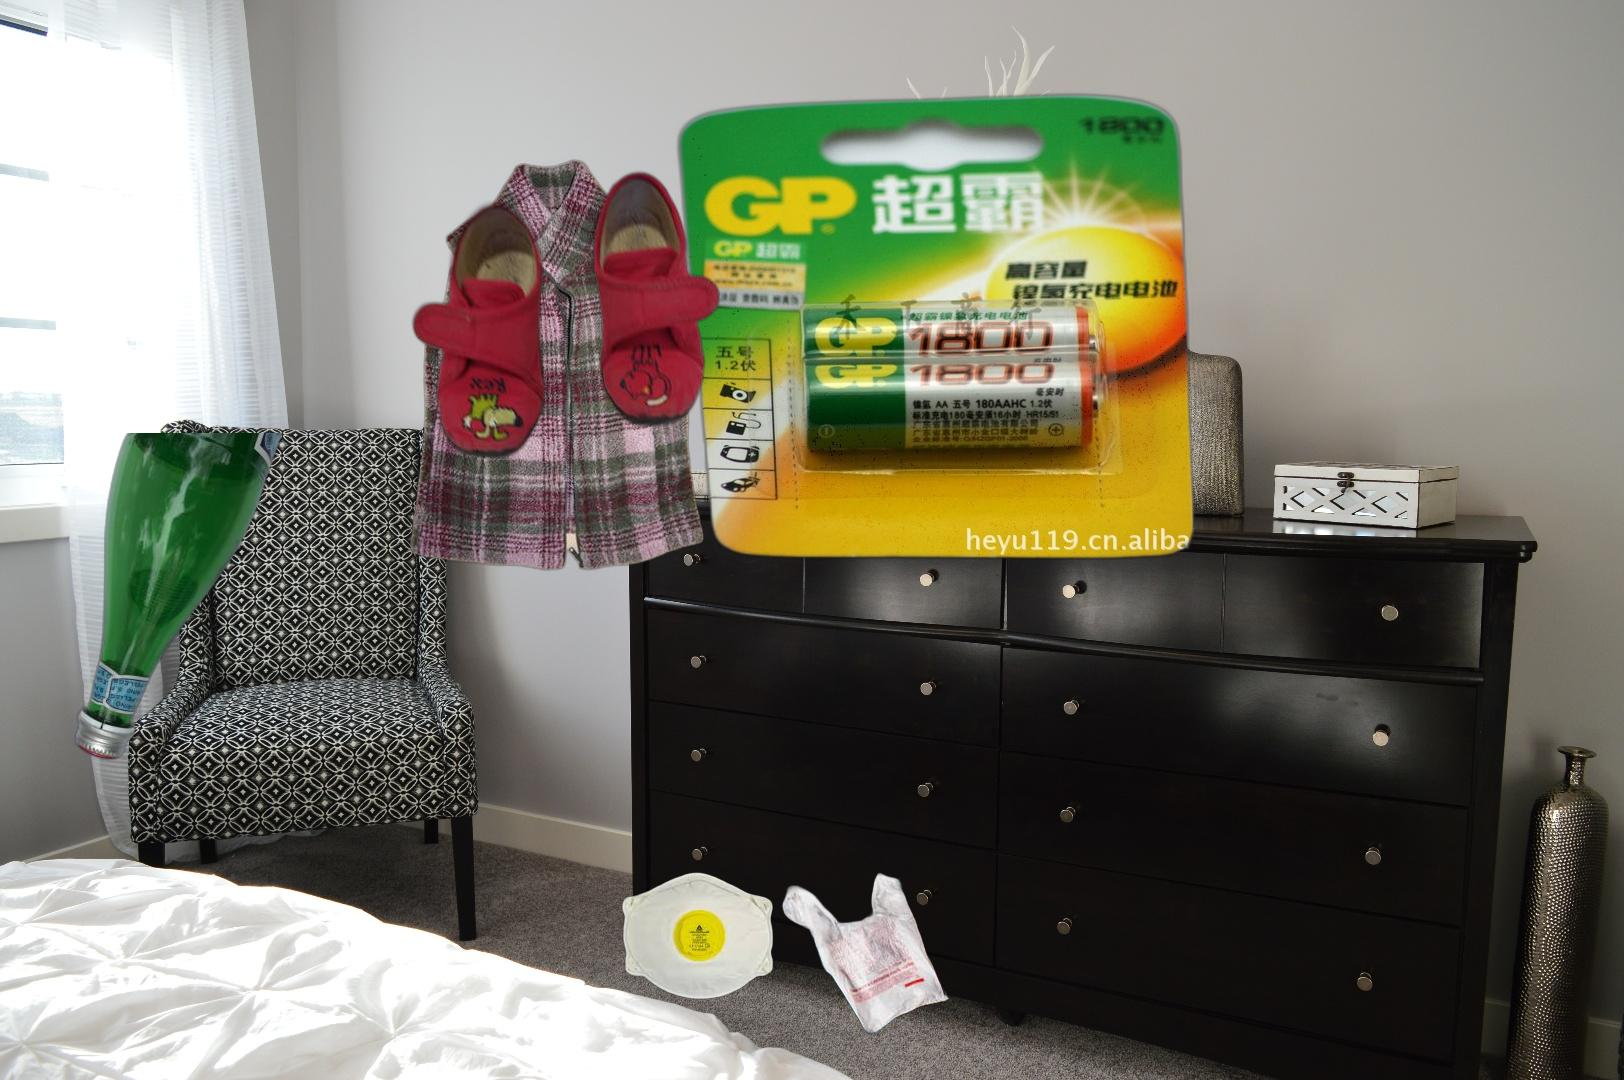battery: (672, 90, 1201, 564)
biological: (1619, 980, 1624, 1080)
clothes: (407, 155, 706, 574)
glass: (70, 433, 287, 763)
plastic-bag: (779, 871, 952, 1038)
shoes: (408, 168, 723, 463)
trash: (619, 869, 776, 1002)
